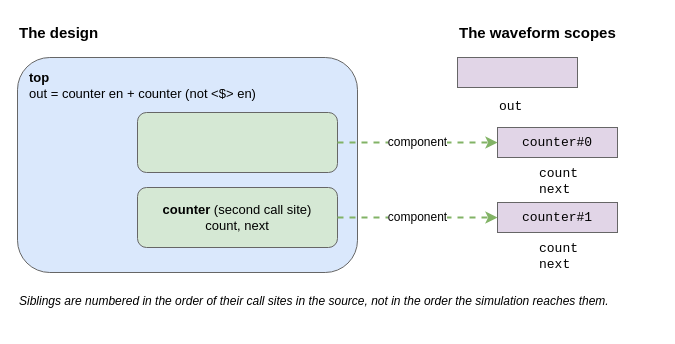
Some shapes in this 675 by 344 pixel diagram are drawn without their labels. The centre of each missing label's shape, as x and y in pixels:
counter (first call site) count, next: [237,142]
top: [517,72]
